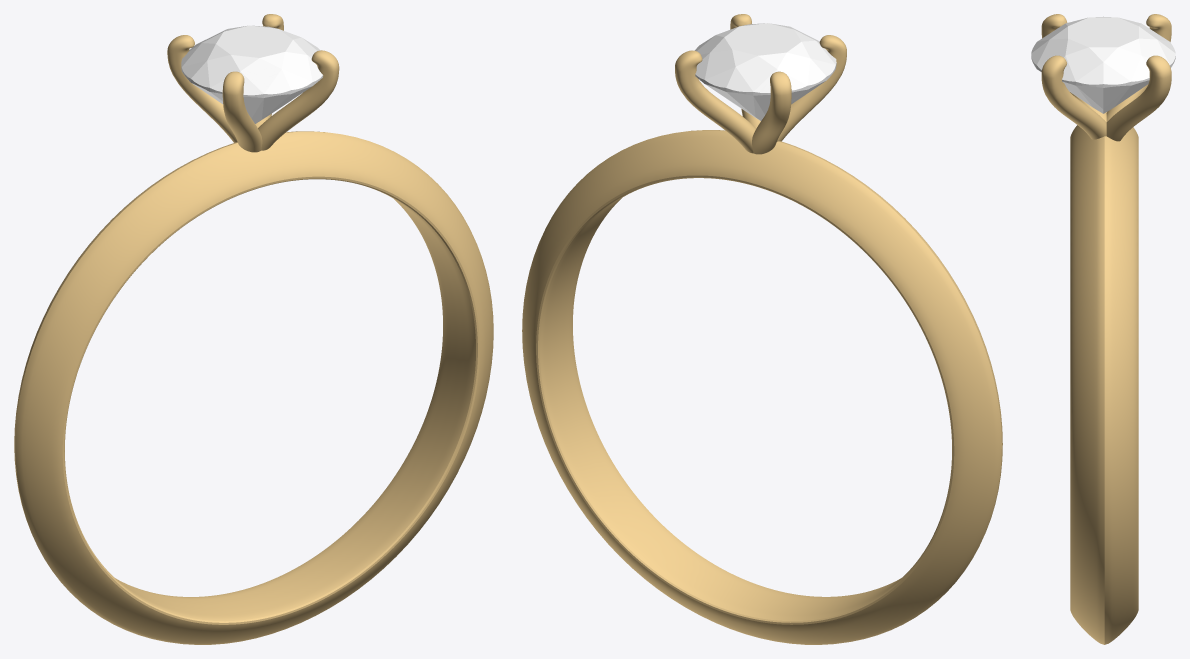
File: valentina-solitaire-ring.glb
3 renders of one model, left to right at view 1: azimuth 30°, elevation 25°; view 2: azimuth 150°, elevation 25°; view 3: azimuth 270°, elevation 25°, orthographic.
Visible parts, largest first — view 1: Layer 01, diamond_Mesh_0; view 2: Layer 01, diamond_Mesh_0; view 3: Layer 01, diamond_Mesh_0.
Boxes of the visible parts, x1=… form: Layer 01: x1=14, y1=14, x2=493, y2=644; diamond_Mesh_0: x1=181, y1=25, x2=323, y2=123; Layer 01: x1=522, y1=14, x2=1002, y2=644; diamond_Mesh_0: x1=695, y1=23, x2=836, y2=120; Layer 01: x1=1041, y1=14, x2=1171, y2=644; diamond_Mesh_0: x1=1031, y1=16, x2=1175, y2=113.
Bounding box in the file's own units: 2.57 × 3.06 × 0.683.
